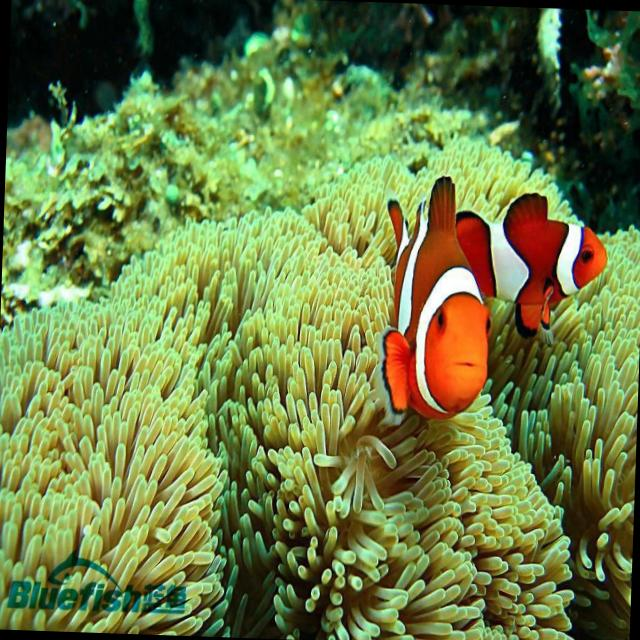ClownFish: (377, 169, 494, 428), (454, 187, 612, 339)
